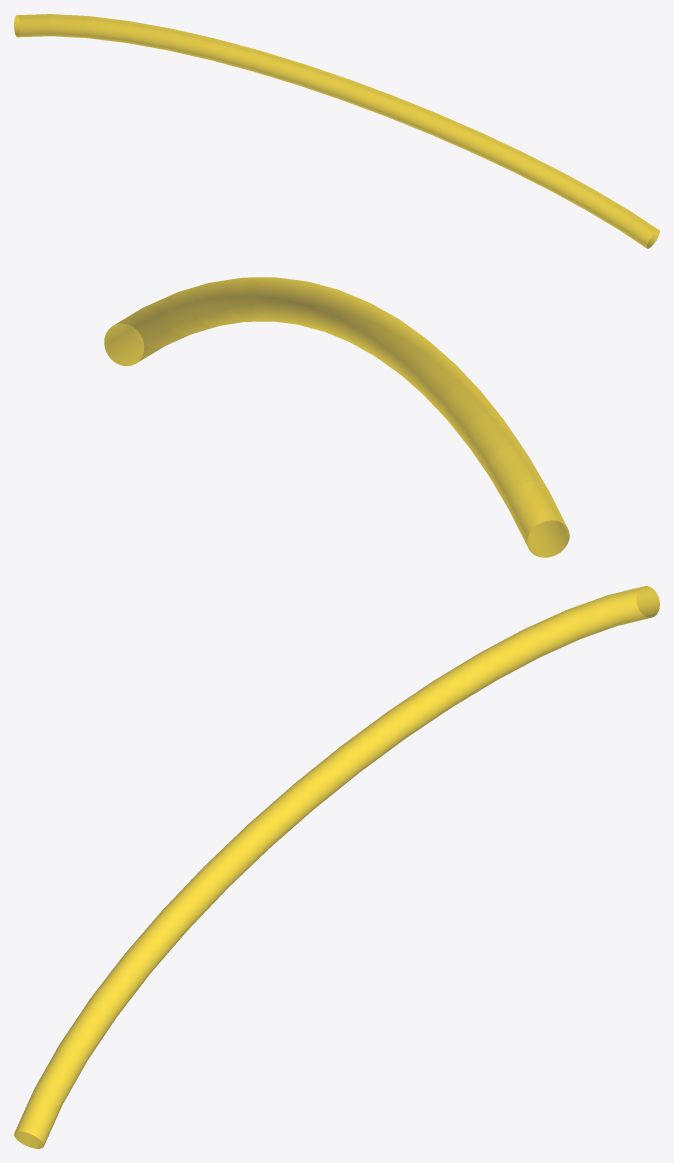
File: Event_17758602_track_89.fbx
3 views of the same model, one above another, from view 1: azimuth 30°, elevation 25°; view 2: azimuth 150°, elevation 25°; view 3: azimuth 270°, elevation 25° (orthographic). The views are drawn at different scales.
Visible parts, largest first — view 1: Model; view 2: Model; view 3: Model.
Boxes of the visible parts, box(x1,y1,x2,y2) form: Model: box(14, 14, 659, 248); Model: box(104, 277, 569, 557); Model: box(14, 586, 659, 1148).
Size of the model in its own units: 0.9111 by 0.3707 by 0.7975.
